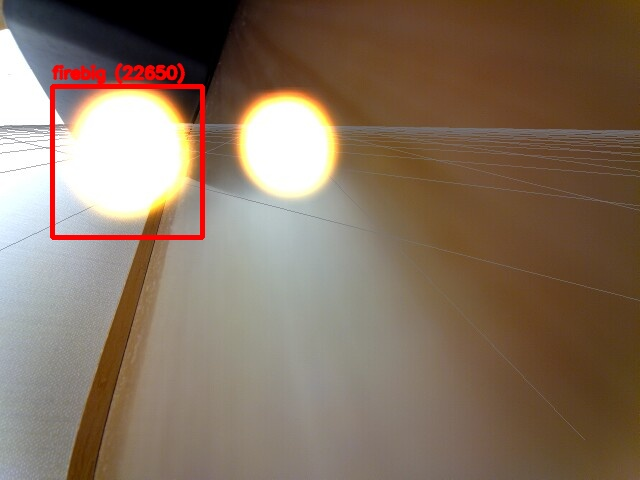firebig: (52, 86, 202, 237)
